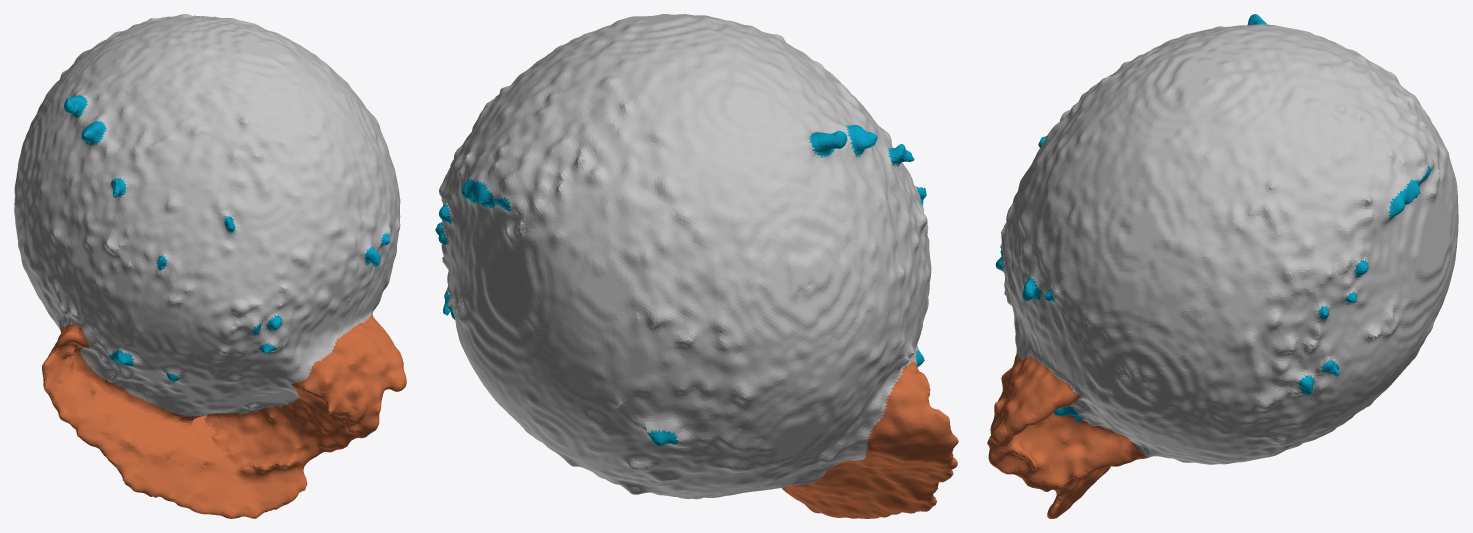
3 views of the same model, side by side, from view 1: azimuth 30°, elevation 25°; view 2: azimuth 150°, elevation 25°; view 3: azimuth 270°, elevation 25° (orthographic). The views are drawn at different scales.
Bounding box in the file's own units: 132 × 149 × 132.
